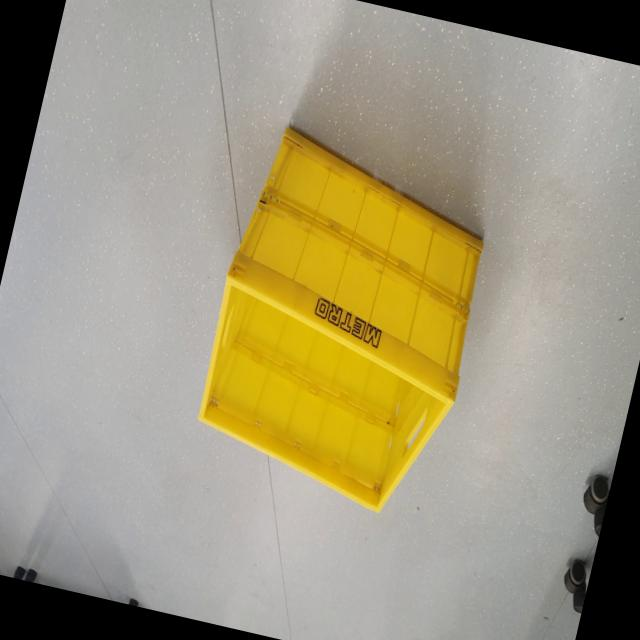box: (162, 94, 529, 549)
